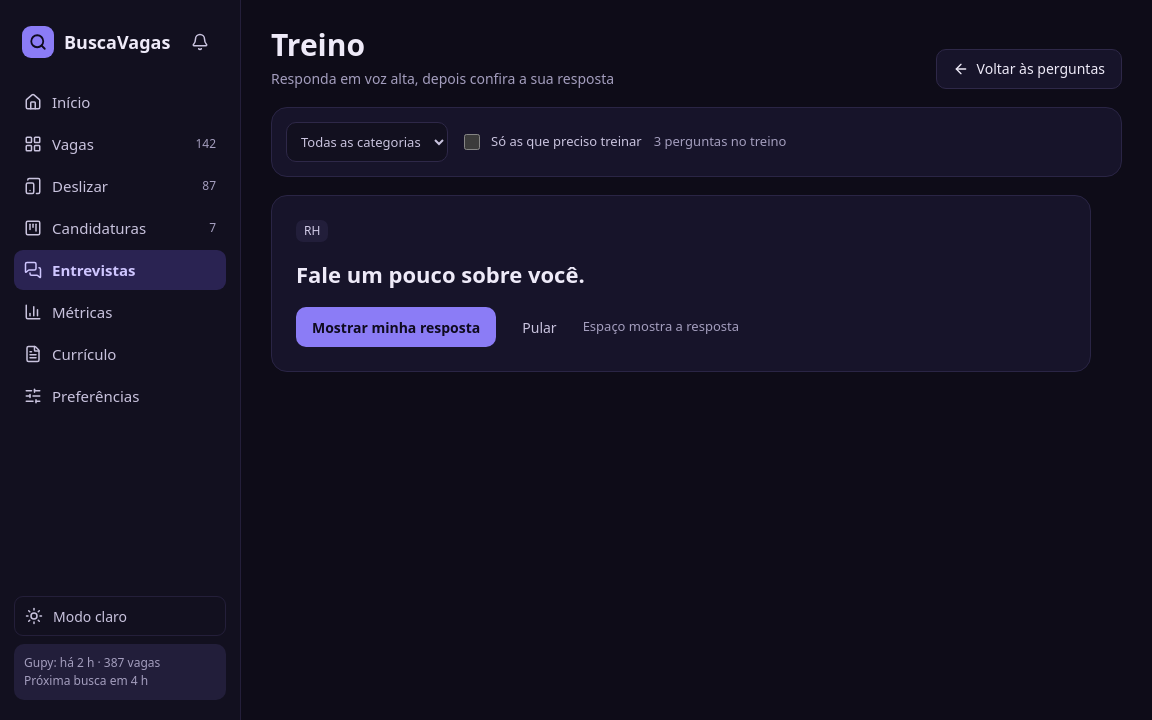
Test: Treino › "só as que preciso treinar" sem nenhuma: aviso
Expected: the element named "Pergunta do treino" is shown, [271,194,1091,372]
Click the checkbox labelled "Só as que preciso treinar". click: (472,142)
box: [464,134,480,150]
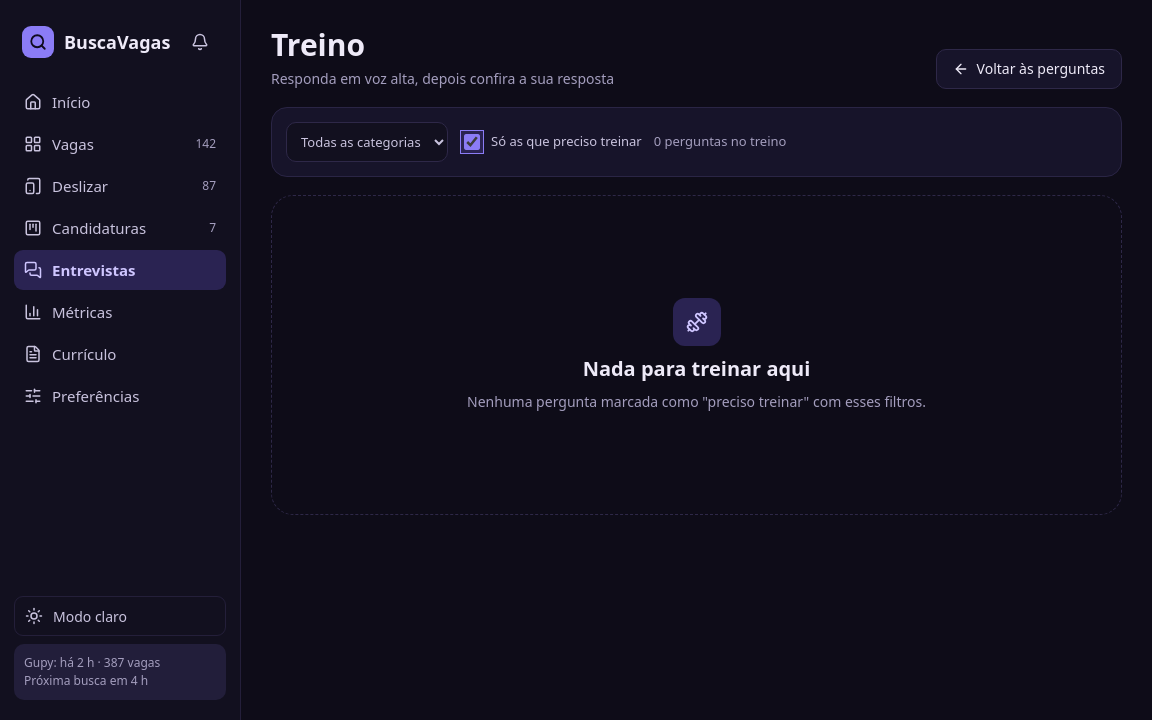
Expected: the heading "Nada para treinar aqui" is shown, [583,356,810,380]
